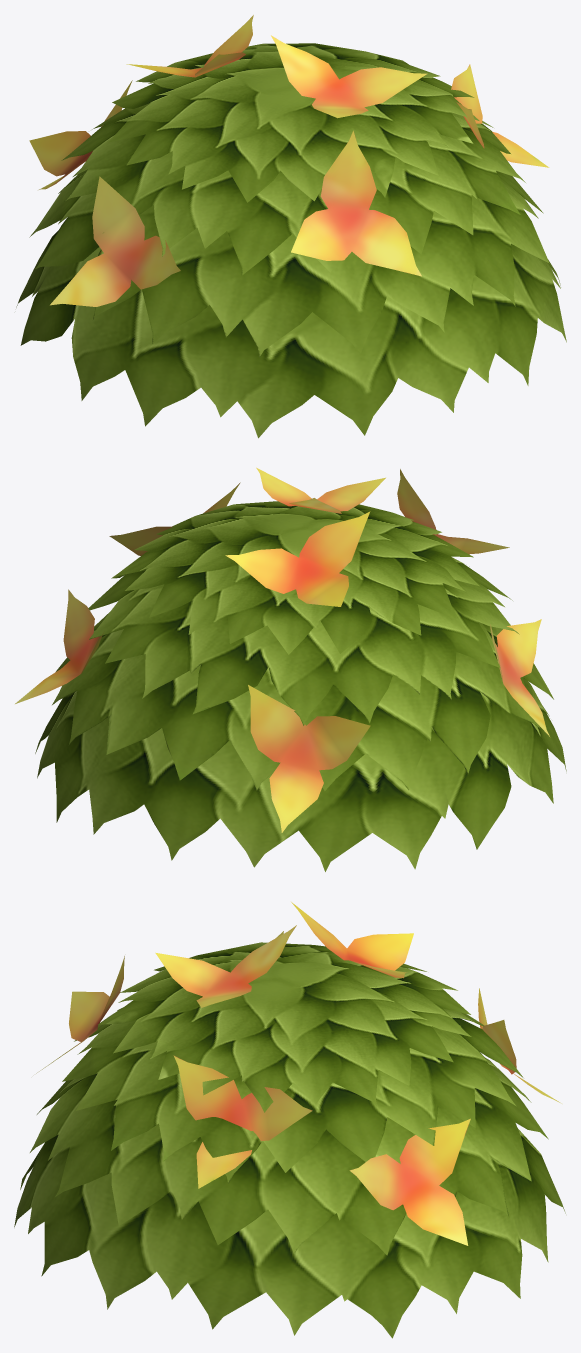
File: bushtest.fbx
The picture shows the model from 3 angles, top to bottom: view 1: azimuth 30°, elevation 25°; view 2: azimuth 150°, elevation 25°; view 3: azimuth 270°, elevation 25°; orthographic projection. The views are drawn at different scales.
Parts seen in each view (by area): view 1: bush; view 2: bush; view 3: bush.
Part boxes in pixels (x1,y1,x2,y2): bush: [16, 15, 566, 438]; bush: [15, 467, 566, 871]; bush: [14, 902, 565, 1338].
Size of the model in its own units: 137 by 78.93 by 133.
